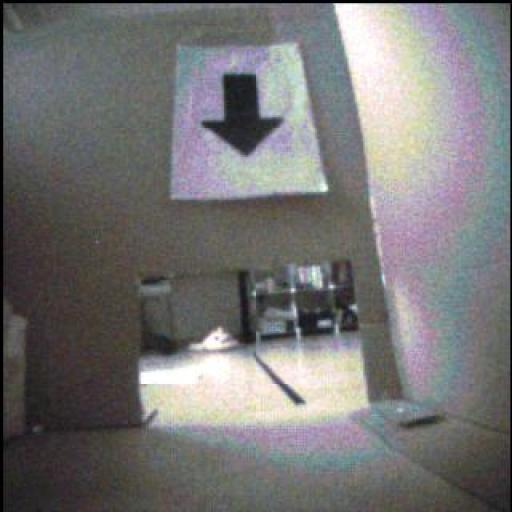arrow: (203, 75, 284, 156)
